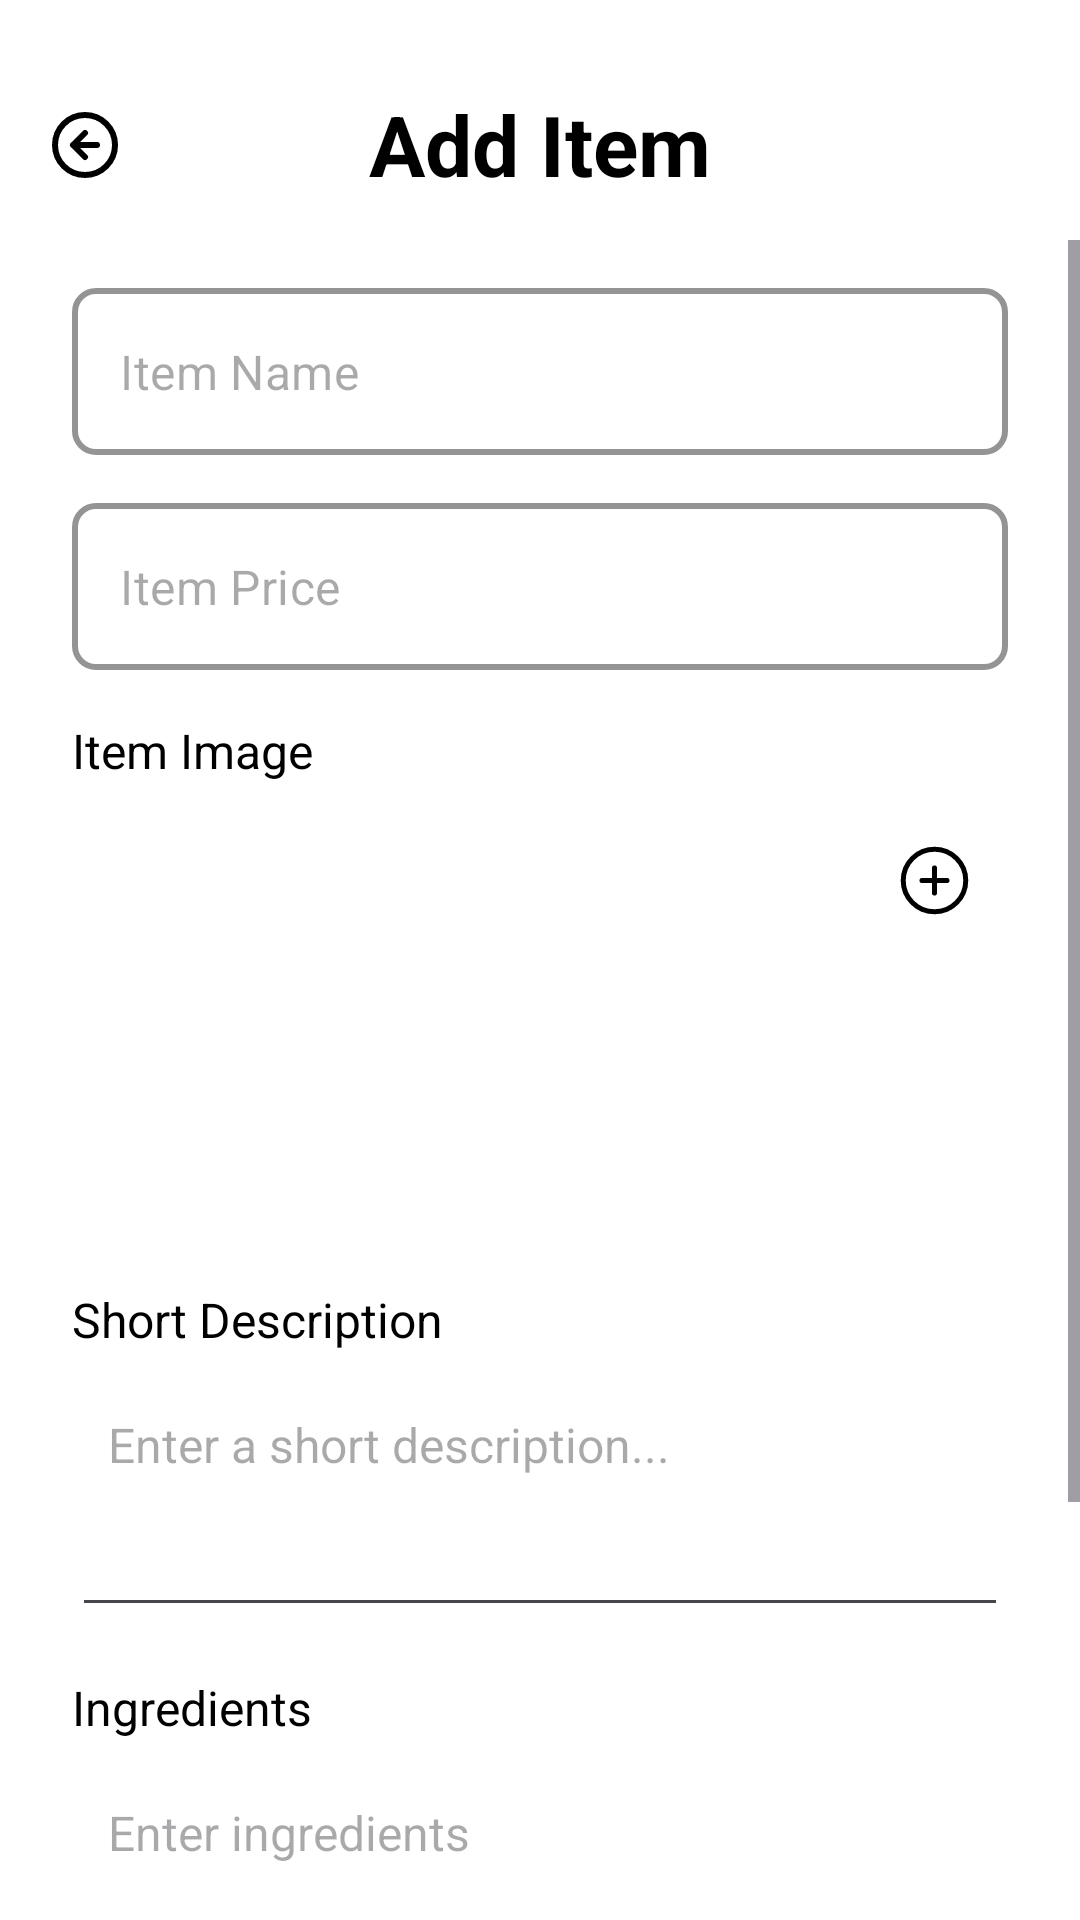

Icon click points for this 1080 × 1920 phone screenshot, format point (x, y):
add menu: point (934, 880)
